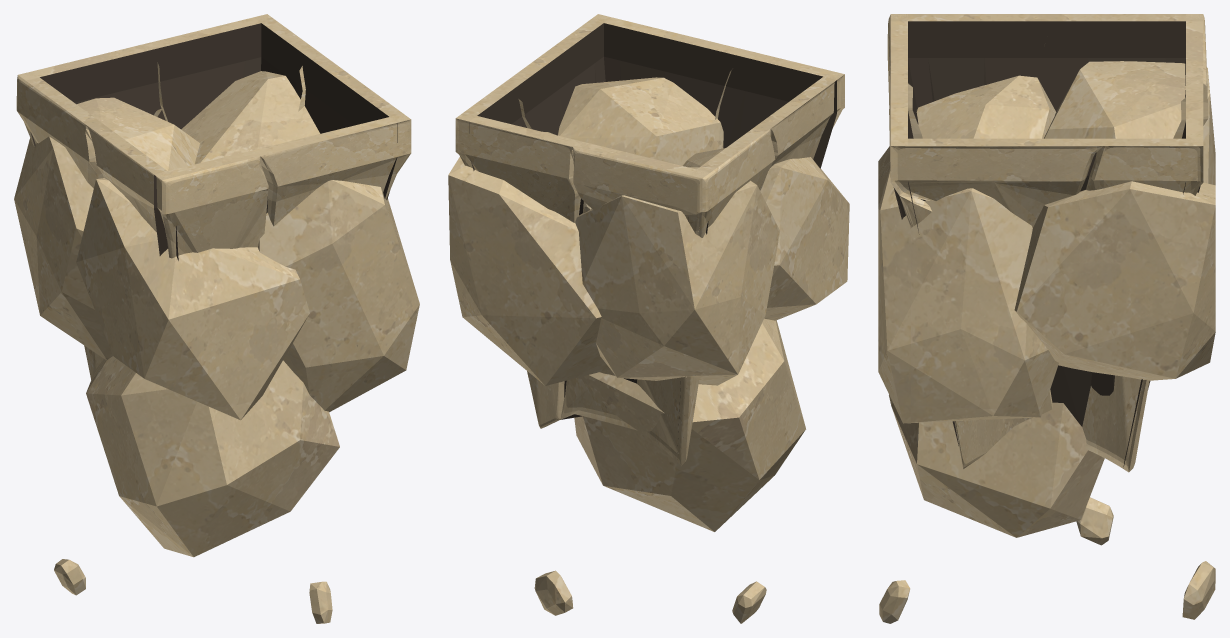
File: ground_bottom_island_03.glb
The picture shows the model from 3 angles, left to right: view 1: azimuth 30°, elevation 25°; view 2: azimuth 150°, elevation 25°; view 3: azimuth 270°, elevation 25°; orthographic projection. The views are drawn at different scales.
Parts seen in each view (by area): view 1: GroundBottomIsland03_Body; view 2: GroundBottomIsland03_Body; view 3: GroundBottomIsland03_Body.
Part boxes in pixels (x1,y1,x2,y2): GroundBottomIsland03_Body: (14, 14, 419, 623); GroundBottomIsland03_Body: (448, 14, 849, 623); GroundBottomIsland03_Body: (878, 14, 1215, 623).
Size of the model in its own units: 1.08 by 1.86 by 1.08.
Materials: 14 (13 with a texture image).
